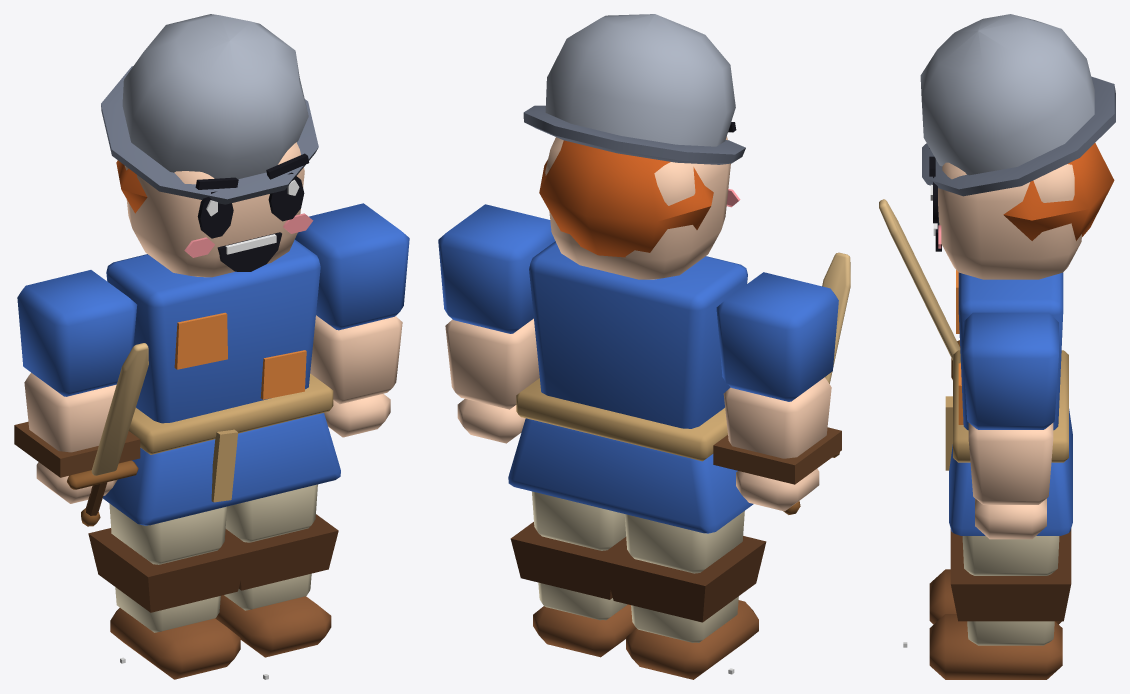
File: RookieSquire.fbx
3 renders of one model, left to right at view 1: azimuth 30°, elevation 25°; view 2: azimuth 150°, elevation 25°; view 3: azimuth 270°, elevation 25°, orthographic. The views are drawn at different scales.
Visible parts, largest first — view 1: RookieSquire_Helmet_Steel, RookieSquire_UpperTorso_Tunic, RookieSquire_LowerTorso_Tunic, RookieSquire_RightUpperArm_Tunic, RookieSquire_LeftUpperArm_Tunic, RookieSquire_Head_Skin, RookieSquire_LowerTorso_Rope, RookieSquire_RightLowerLeg_BootDark, RookieSquire_LeftLowerArm_Skin, RookieSquire_Helmet_SteelDark, RookieSquire_RightFoot_Boot, RookieSquire_RightLowerArm_Skin (+16 smaller); view 2: RookieSquire_UpperTorso_Tunic, RookieSquire_Helmet_Steel, RookieSquire_LowerTorso_Tunic, RookieSquire_Head_Hair, RookieSquire_RightUpperArm_Tunic, RookieSquire_LeftUpperArm_Tunic, RookieSquire_Head_Skin, RookieSquire_RightLowerLeg_BootDark, RookieSquire_LeftLowerArm_Skin, RookieSquire_LowerTorso_Rope, RookieSquire_RightLowerArm_Skin, RookieSquire_LeftLowerLeg_BootDark (+11 smaller); view 3: RookieSquire_Helmet_Steel, RookieSquire_LeftUpperArm_Tunic, RookieSquire_Head_Skin, RookieSquire_LeftLowerLeg_BootDark, RookieSquire_LeftLowerArm_Skin, RookieSquire_LeftFoot_Boot, RookieSquire_Helmet_SteelDark, RookieSquire_UpperTorso_Tunic, RookieSquire_Head_Hair, RookieSquire_LowerTorso_Tunic, RookieSquire_LeftUpperLeg_Cream, RookieSquire_LowerTorso_Rope (+6 smaller).
Part boxes in pixels (x1,y1,x2,y2): RookieSquire_Helmet_Steel: (122,14,308,179); RookieSquire_UpperTorso_Tunic: (106,239,320,423); RookieSquire_LowerTorso_Tunic: (103,413,340,525); RookieSquire_RightUpperArm_Tunic: (17,270,137,396); RookieSquire_LeftUpperArm_Tunic: (295,203,409,330); RookieSquire_Head_Skin: (125,142,304,277); RookieSquire_LowerTorso_Rope: (128,373,333,502); RookieSquire_RightLowerLeg_BootDark: (88,528,247,612); RookieSquire_LeftLowerArm_Skin: (310,315,402,404); RookieSquire_Helmet_SteelDark: (101,66,318,204); RookieSquire_RightFoot_Boot: (110,608,240,679); RookieSquire_RightLowerArm_Skin: (24,372,116,452); RookieSquire_UpperTorso_Tunic: (529,241,747,428); RookieSquire_Helmet_Steel: (545,14,735,146); RookieSquire_LowerTorso_Tunic: (508,418,753,533); RookieSquire_Head_Hair: (539,140,713,257); RookieSquire_RightUpperArm_Tunic: (716,272,838,401); RookieSquire_LeftUpperArm_Tunic: (438,204,555,333); RookieSquire_Head_Skin: (545,136,730,279); RookieSquire_RightLowerLeg_BootDark: (603,536,766,622); RookieSquire_LeftLowerArm_Skin: (445,318,539,409); RookieSquire_LowerTorso_Rope: (516,378,727,461); RookieSquire_RightLowerArm_Skin: (723,377,831,458); RookieSquire_LeftLowerLeg_BootDark: (510,522,628,599); RookieSquire_Helmet_Steel: (920,14,1094,175); RookieSquire_LeftUpperArm_Tunic: (963,312,1058,429); RookieSquire_Head_Skin: (938,162,1081,279); RookieSquire_LeftLowerLeg_BootDark: (950,536,1071,621); RookieSquire_LeftLowerArm_Skin: (968,423,1053,504); RookieSquire_LeftFoot_Boot: (929,614,1062,679); RookieSquire_Helmet_SteelDark: (922,76,1115,196); RookieSquire_UpperTorso_Tunic: (958,272,1063,430); RookieSquire_Head_Hair: (1003,143,1114,240); RookieSquire_LowerTorso_Tunic: (949,409,1072,535); RookieSquire_LeftUpperLeg_Cream: (962,536,1059,575); RookieSquire_LowerTorso_Rope: (945,350,1068,470).
Size of the model in its own units: 3.91 by 6.48 by 2.24.
